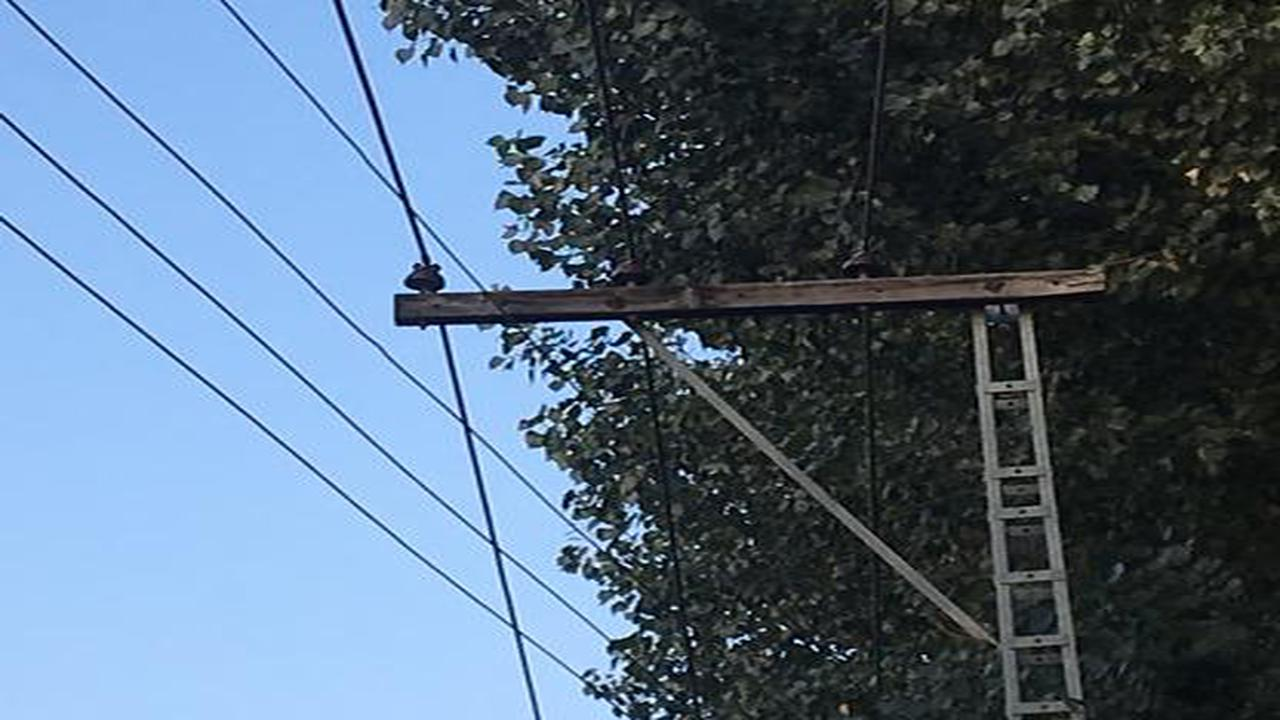insulator_pin: (403, 258, 448, 296)
